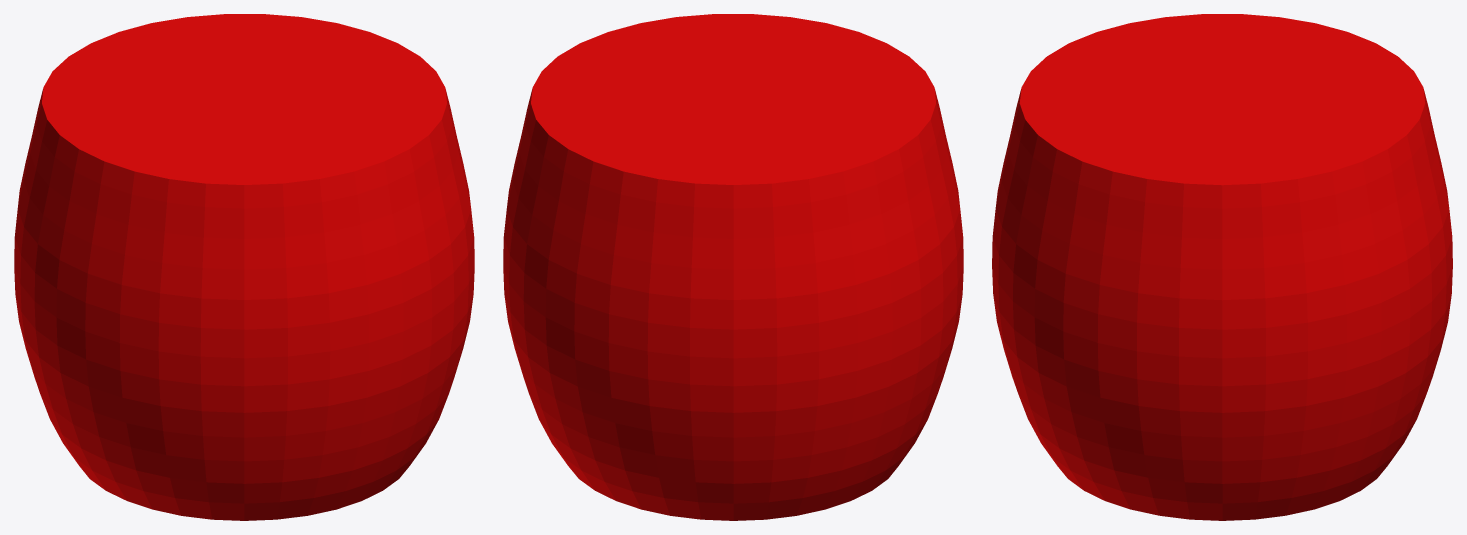
The model's file is Liquid2.fbx.
3 renders of one model, left to right at view 1: azimuth 30°, elevation 25°; view 2: azimuth 150°, elevation 25°; view 3: azimuth 270°, elevation 25°, orthographic.
Visible parts, largest first — view 1: Liquid2; view 2: Liquid2; view 3: Liquid2.
Part boxes in pixels (x1,y1,x2,y2): Liquid2: (14, 14, 474, 520); Liquid2: (503, 14, 963, 520); Liquid2: (992, 14, 1452, 520).
Bounding box in the file's own units: 0.9076 × 0.7607 × 0.9086.
